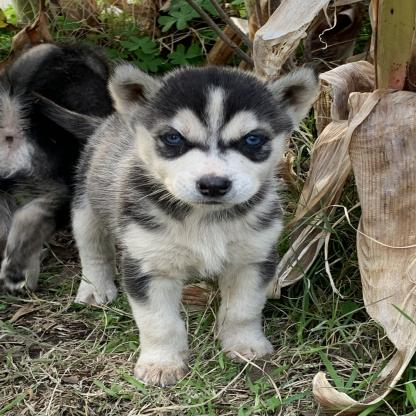husky: (75, 62, 324, 380)
